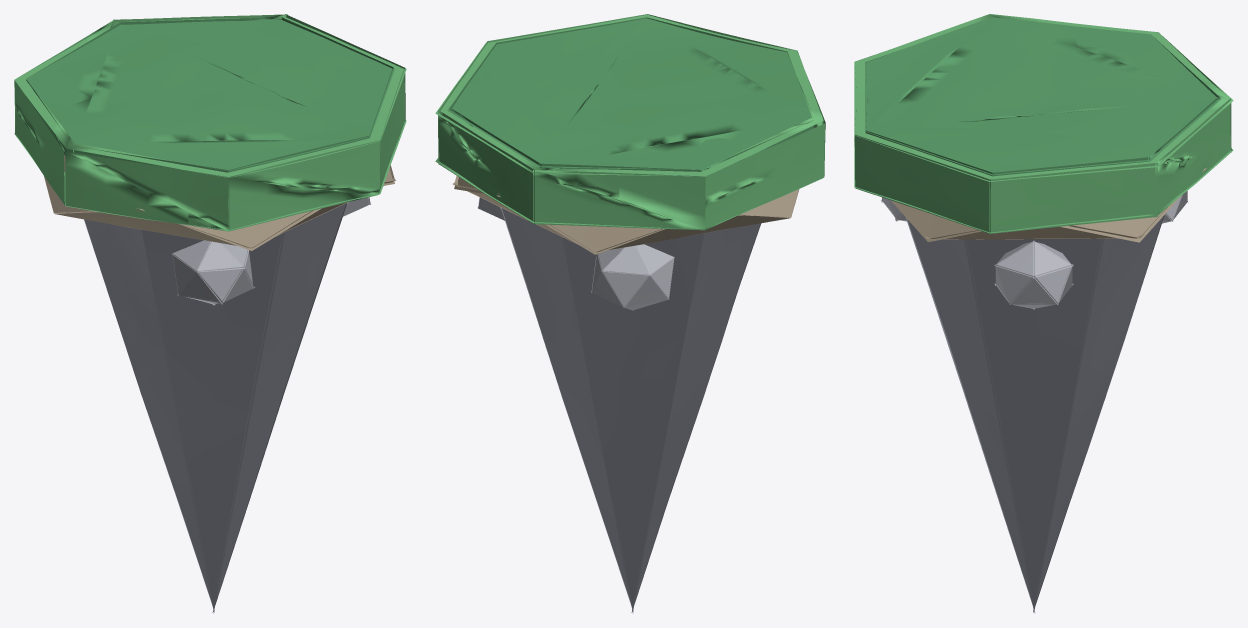
File: island.glb
The picture shows the model from 3 angles, left to right: view 1: azimuth 30°, elevation 25°; view 2: azimuth 150°, elevation 25°; view 3: azimuth 270°, elevation 25°; orthographic projection.
Visible parts, largest first — view 1: IslandTop; view 2: IslandTop; view 3: IslandTop.
Part boxes in pixels (bbox=[...]): IslandTop: bbox=[14, 14, 406, 613]; IslandTop: bbox=[435, 14, 825, 613]; IslandTop: bbox=[854, 14, 1233, 613].
Bounding box in the file's own units: 1.96 × 2.87 × 1.9.
